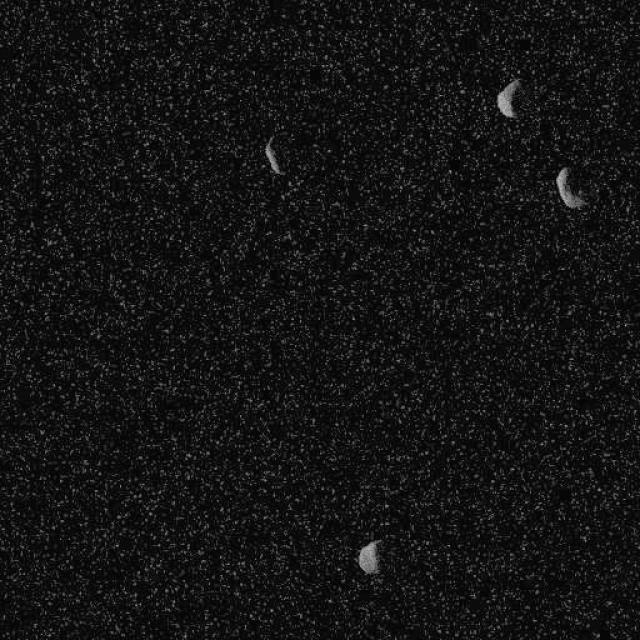D2: (555, 165, 589, 209), (495, 76, 523, 119), (356, 537, 382, 575), (262, 132, 284, 176)
